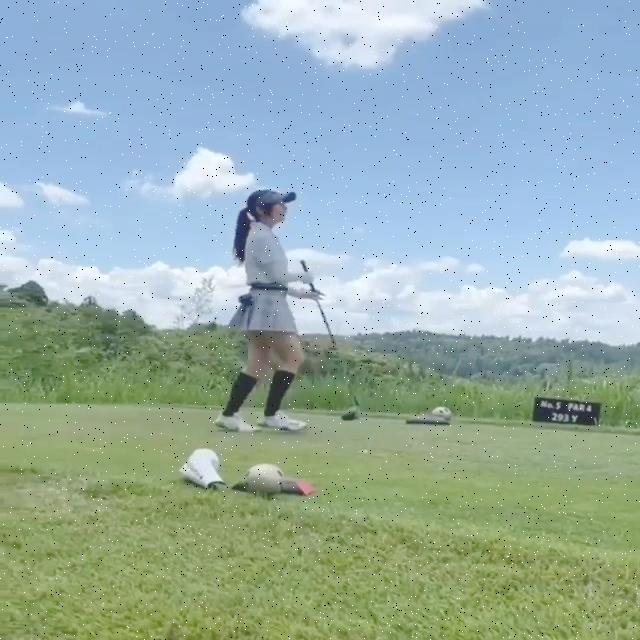ClubHandle: (300, 260, 365, 424)
ClubHead: (340, 406, 363, 421)
